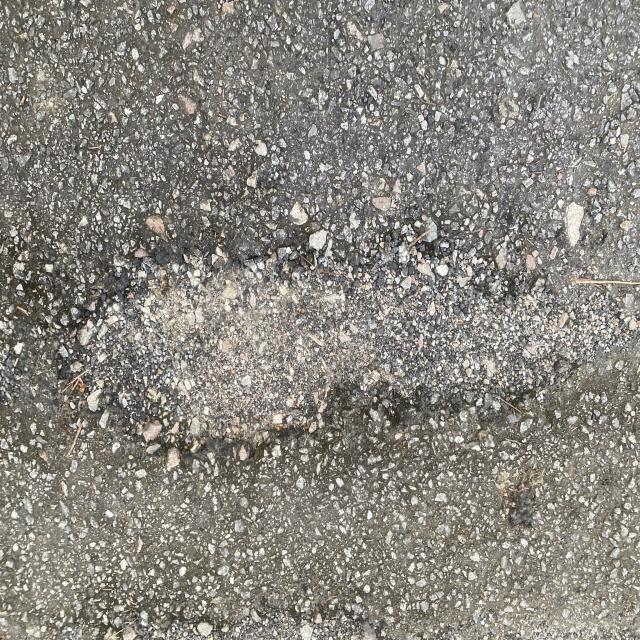Pothole: (100, 217, 498, 483)
